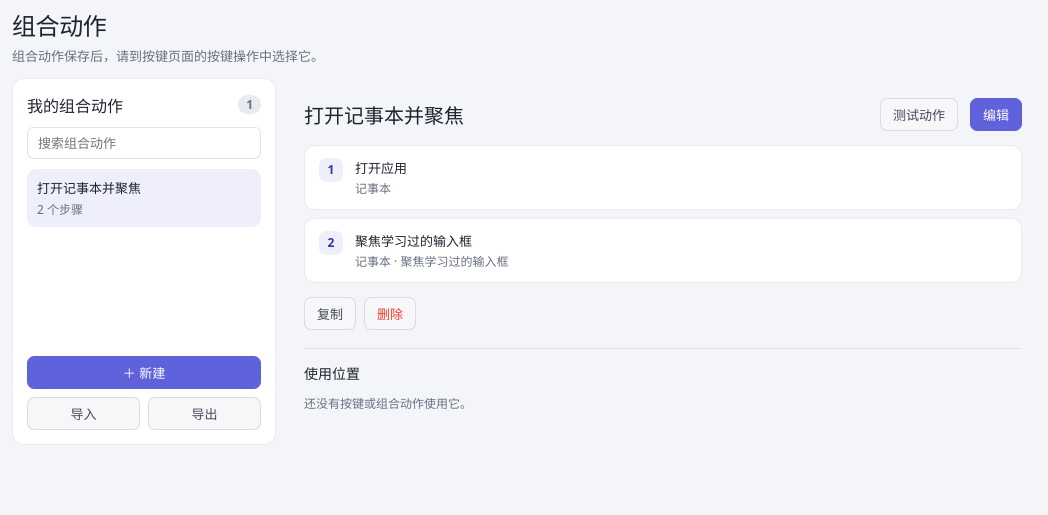
组合动作页 · 库浏览 › 保存返回多版本时列表仍只显示一条（保存后不出现重复）
Click the button "编辑". click: (996, 114)
box: [970,98,1022,131]
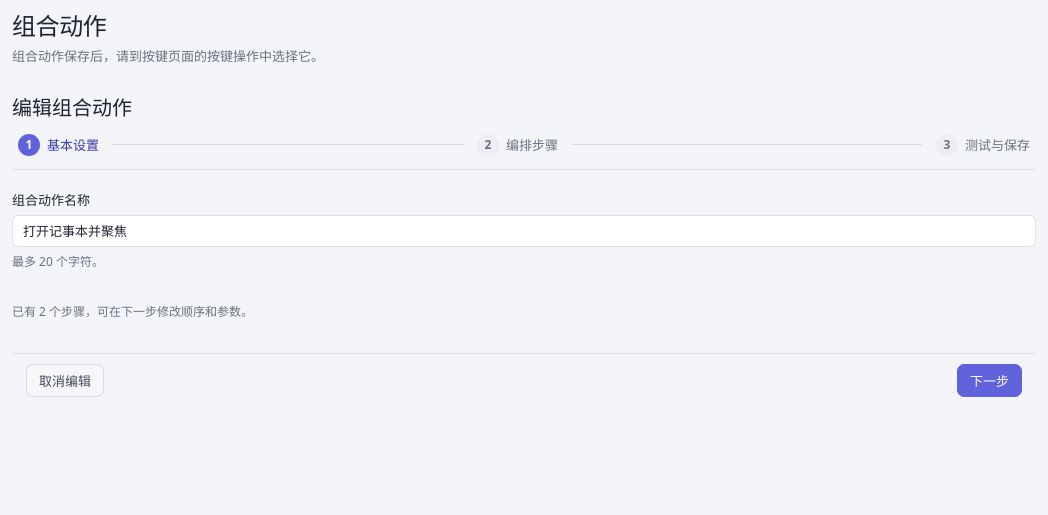
Expected: the button "3 测试与保存" is shown
Click the button "3 测试与保存". click: (983, 145)
box: [930,133,1036,157]
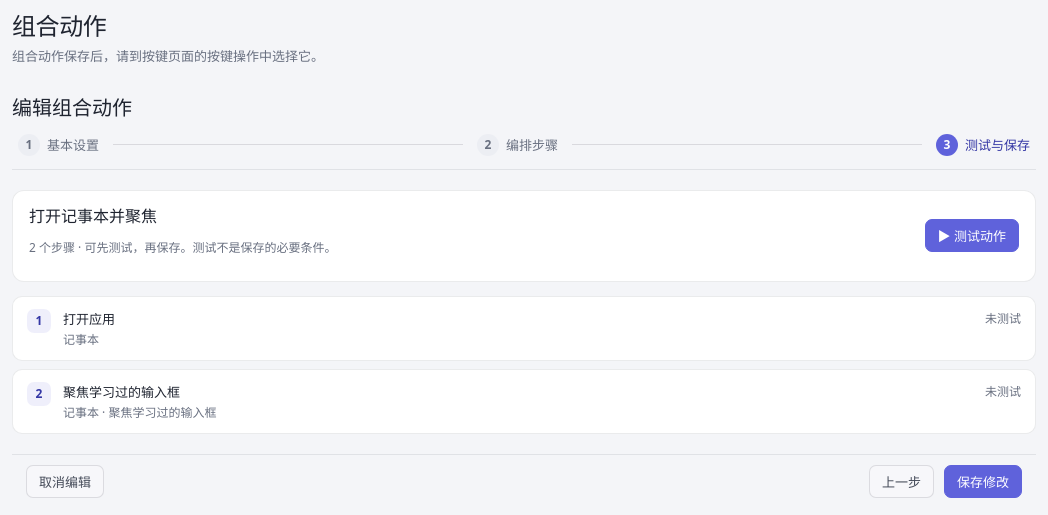
Expected: the button "保存修改" is shown
Click the button "保存修改". click: (983, 481)
box: [944,465,1022,498]
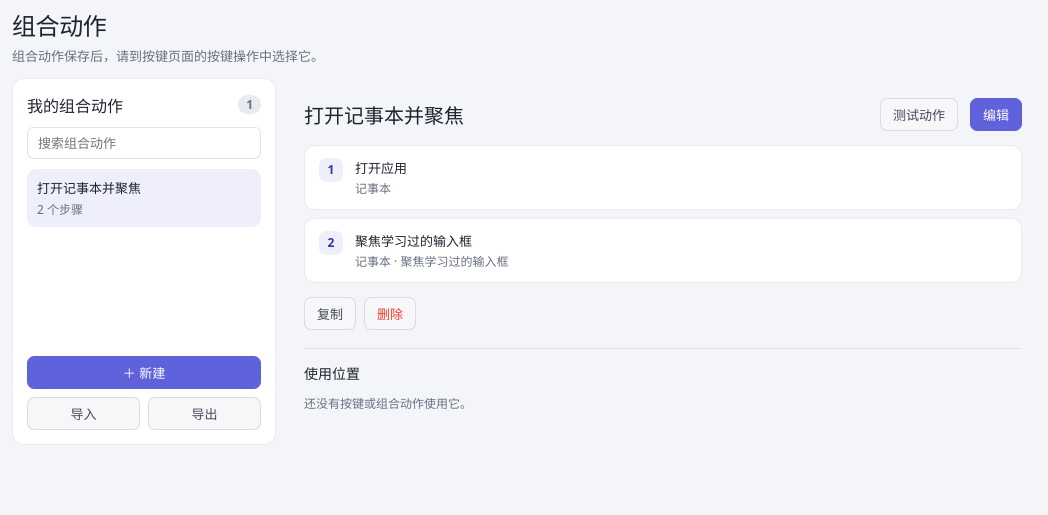
Expected: the number of options with class "macro-item" is 1, [27,169,261,227]
